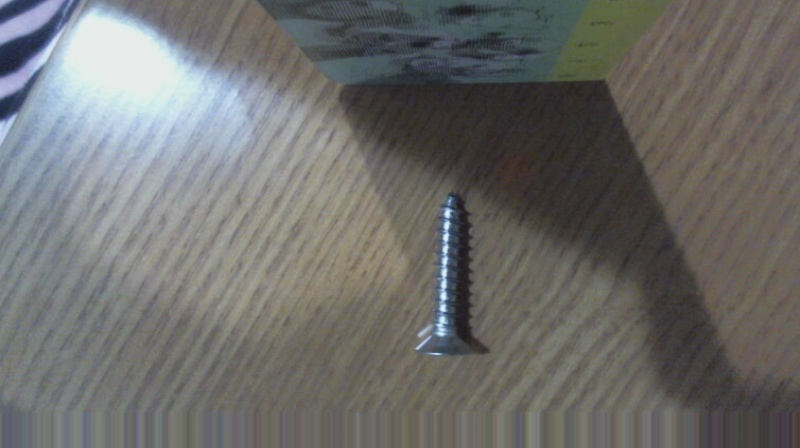S001: (408, 184, 486, 361)
